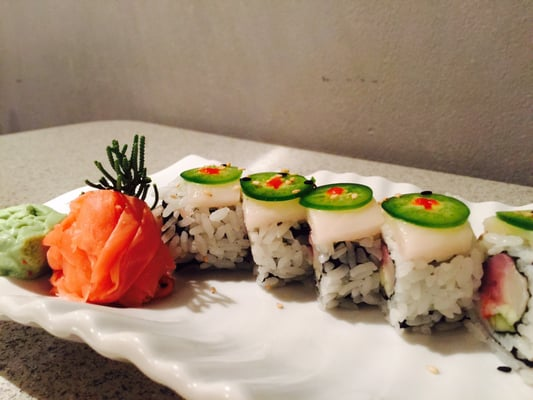curry: (1, 113, 533, 397)
sushi: (244, 164, 531, 337), (378, 191, 480, 333), (163, 161, 251, 269)
